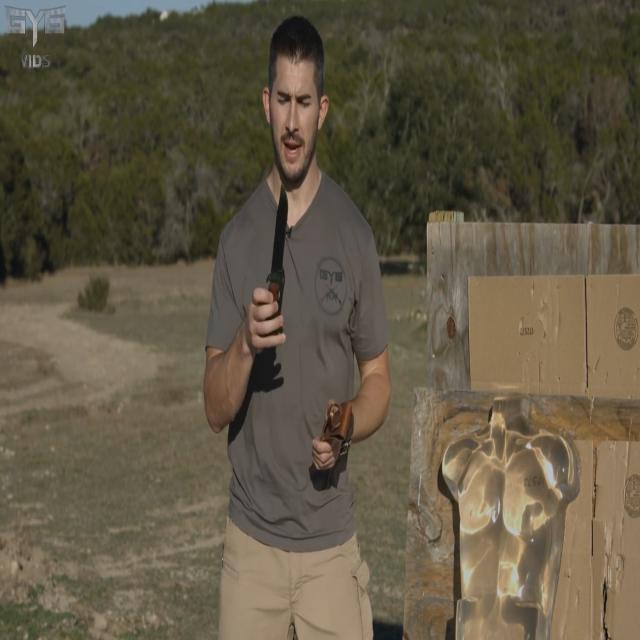knife: (268, 180, 292, 306)
